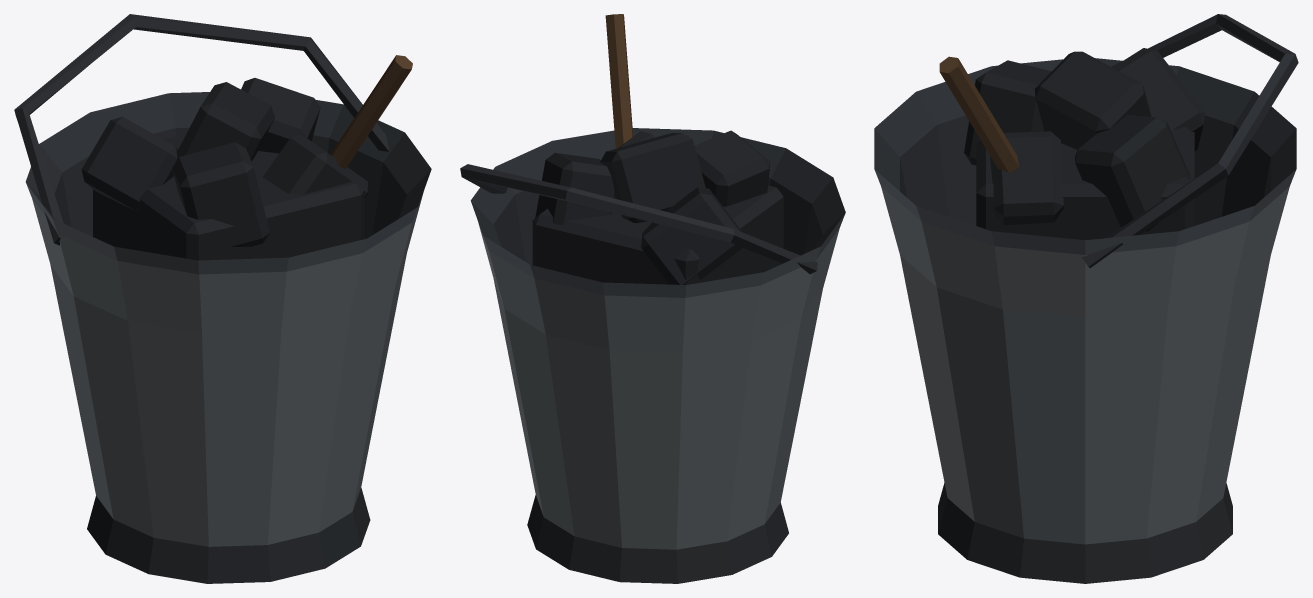
The model's file is prop_coal_bucket.glb.
3 renders of one model, left to right at view 1: azimuth 30°, elevation 25°; view 2: azimuth 150°, elevation 25°; view 3: azimuth 270°, elevation 25°, orthographic. The views are drawn at different scales.
Visible parts, largest first — view 1: prop_coal_bucket; view 2: prop_coal_bucket; view 3: prop_coal_bucket.
Part boxes in pixels (x1=…): prop_coal_bucket: x1=14, y1=14, x2=431, y2=583; prop_coal_bucket: x1=460, y1=14, x2=845, y2=583; prop_coal_bucket: x1=874, y1=14, x2=1298, y2=583.
Size of the model in its own units: 0.444 by 0.5859 by 0.435.
